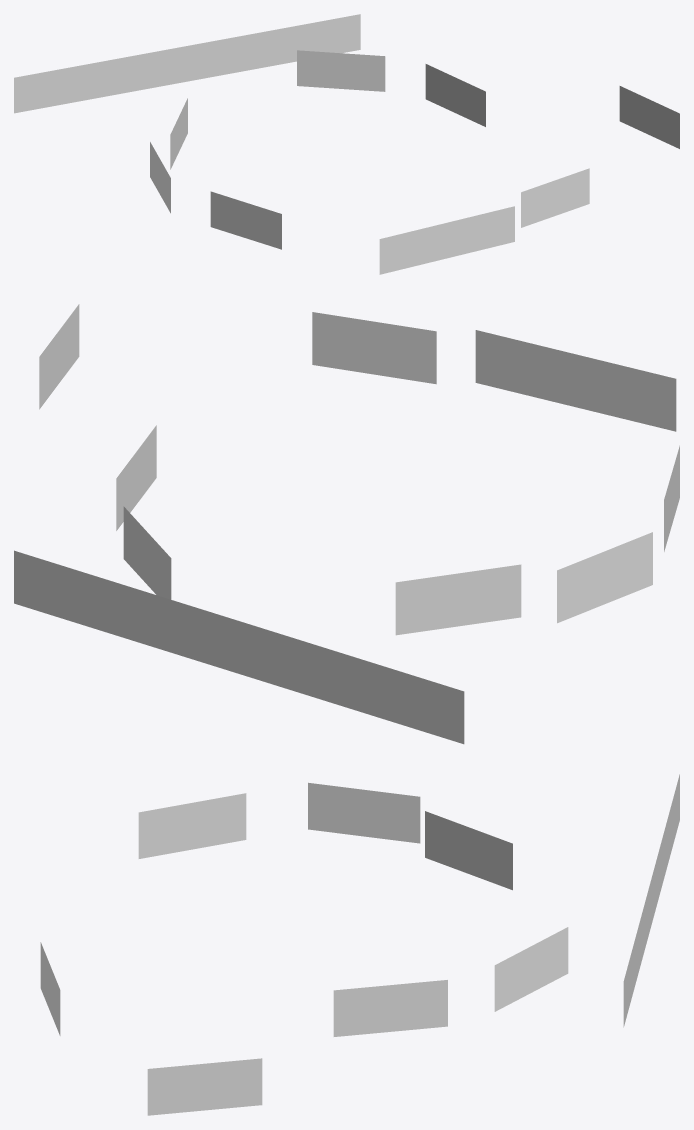
The model's file is fog.fbx.
The picture shows the model from 3 angles, top to bottom: view 1: azimuth 30°, elevation 25°; view 2: azimuth 150°, elevation 25°; view 3: azimuth 270°, elevation 25°; orthographic projection. The views are drawn at different scales.
Parts seen in each view (by area): view 1: fog_poly; view 2: fog_poly; view 3: fog_poly.
Part boxes in pixels (x1,y1,x2,y2): fog_poly: (14, 14, 679, 274); fog_poly: (14, 304, 679, 744); fog_poly: (40, 774, 679, 1115).
Size of the model in its own units: 4509 by 355 by 4291.
